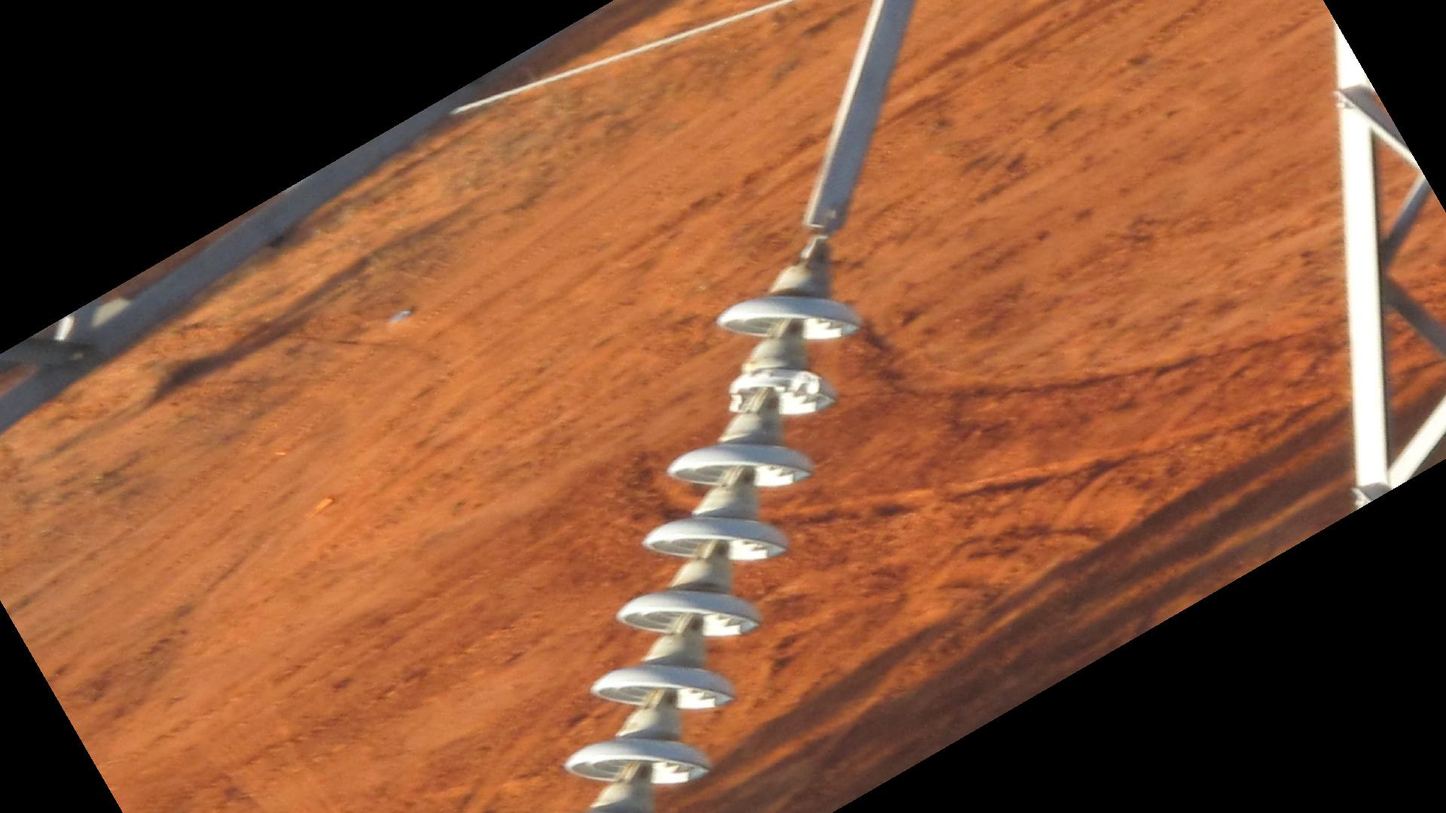insulator: (556, 287, 871, 797)
insulator_breakage: (719, 364, 826, 414)
